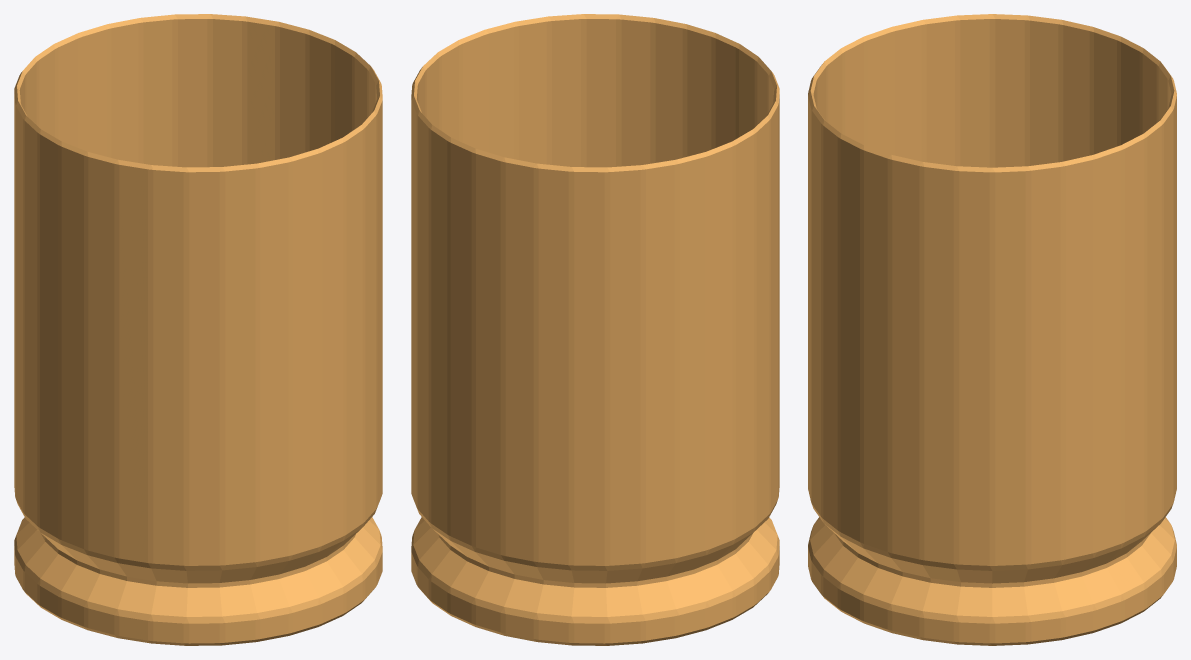
Rendered from Casing9mm.fbx.
The picture shows the model from 3 angles, left to right: view 1: azimuth 30°, elevation 25°; view 2: azimuth 150°, elevation 25°; view 3: azimuth 270°, elevation 25°; orthographic projection.
Parts seen in each view (by area): view 1: Cylinder; view 2: Cylinder; view 3: Cylinder.
Part boxes in pixels (x1=…): Cylinder: x1=14, y1=14, x2=382, y2=645; Cylinder: x1=411, y1=14, x2=779, y2=645; Cylinder: x1=808, y1=14, x2=1176, y2=645.
Bounding box in the file's own units: 41.94 × 60 × 41.94.
